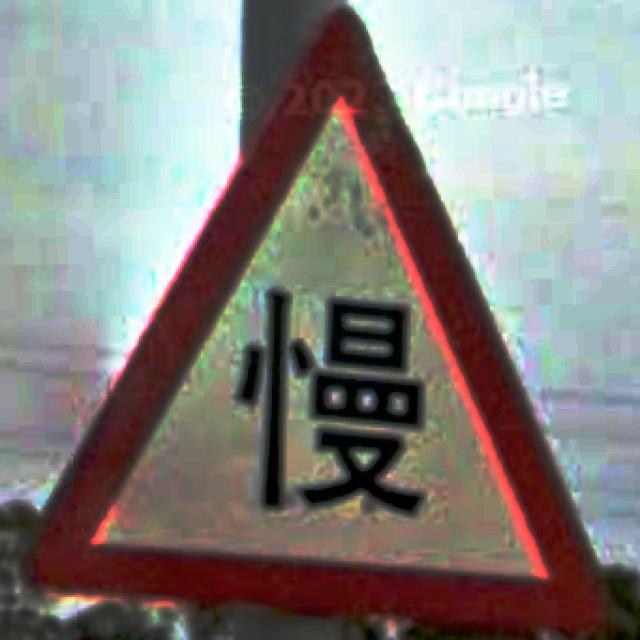slow: (24, 9, 612, 636)
